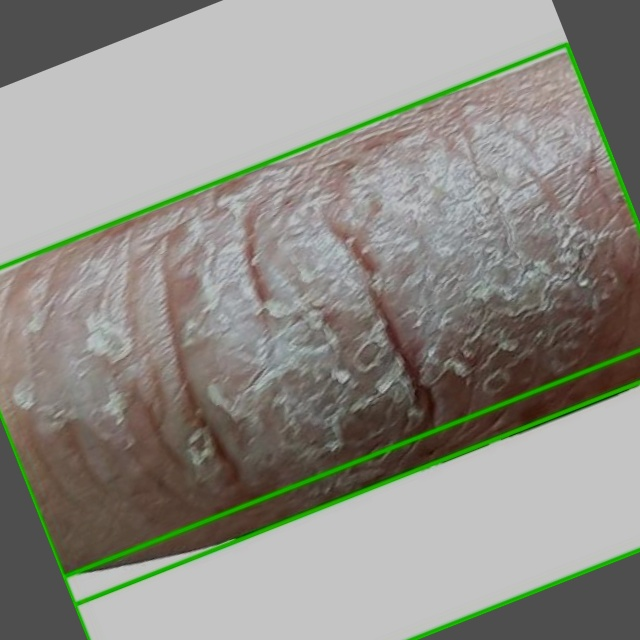Eczema: (0, 45, 639, 606), (63, 351, 639, 639)
